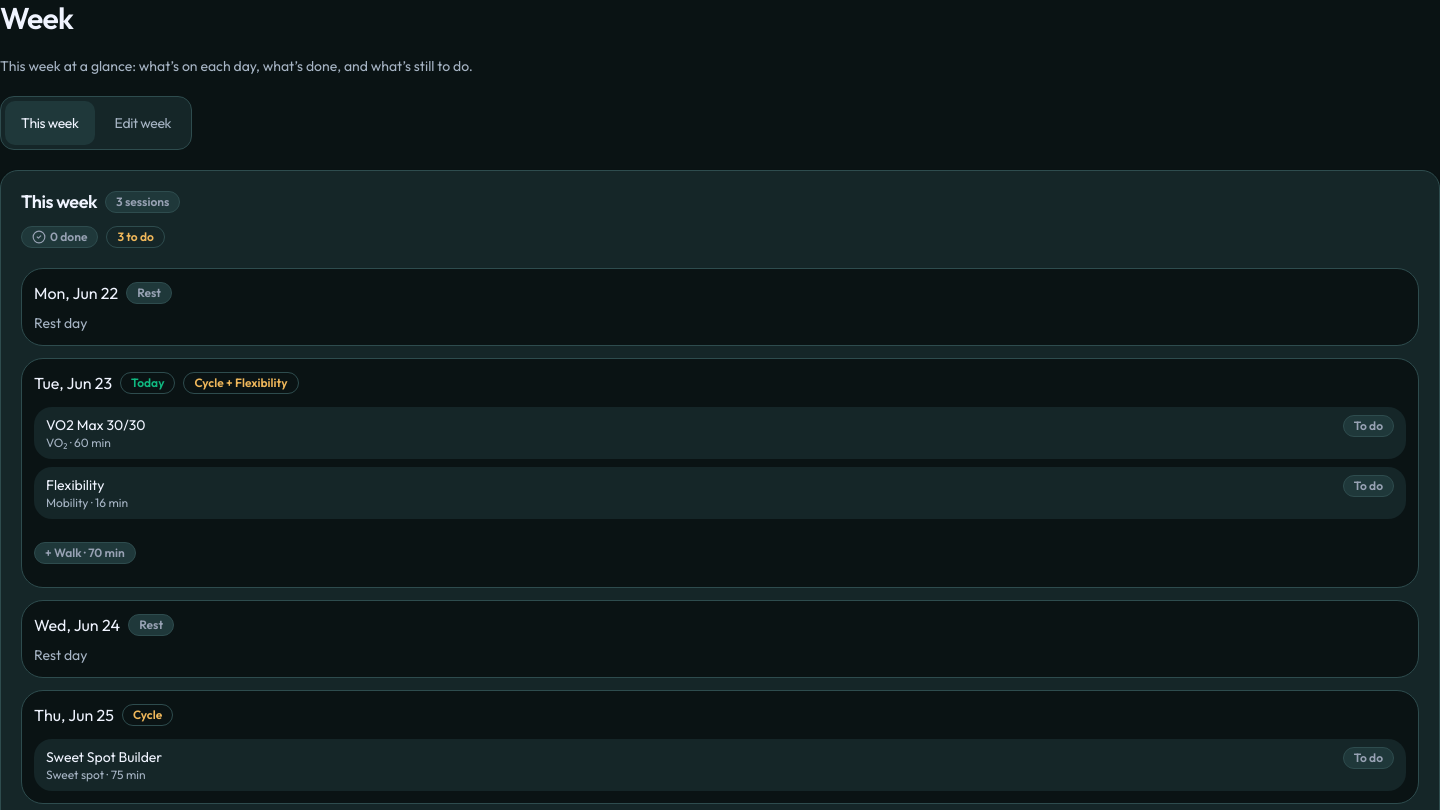
WeekAheadPage › opens an activity detail sheet from a logged-walk chip on the glance (Batch 136)
Check: the text "VO2 Max 30/30" is shown, box [46,414,146,434]
Check: the text "You did this" is not shown
Click the button with aria-label "View Walk · 70 min details" at (85, 552), box [34,530,136,574]
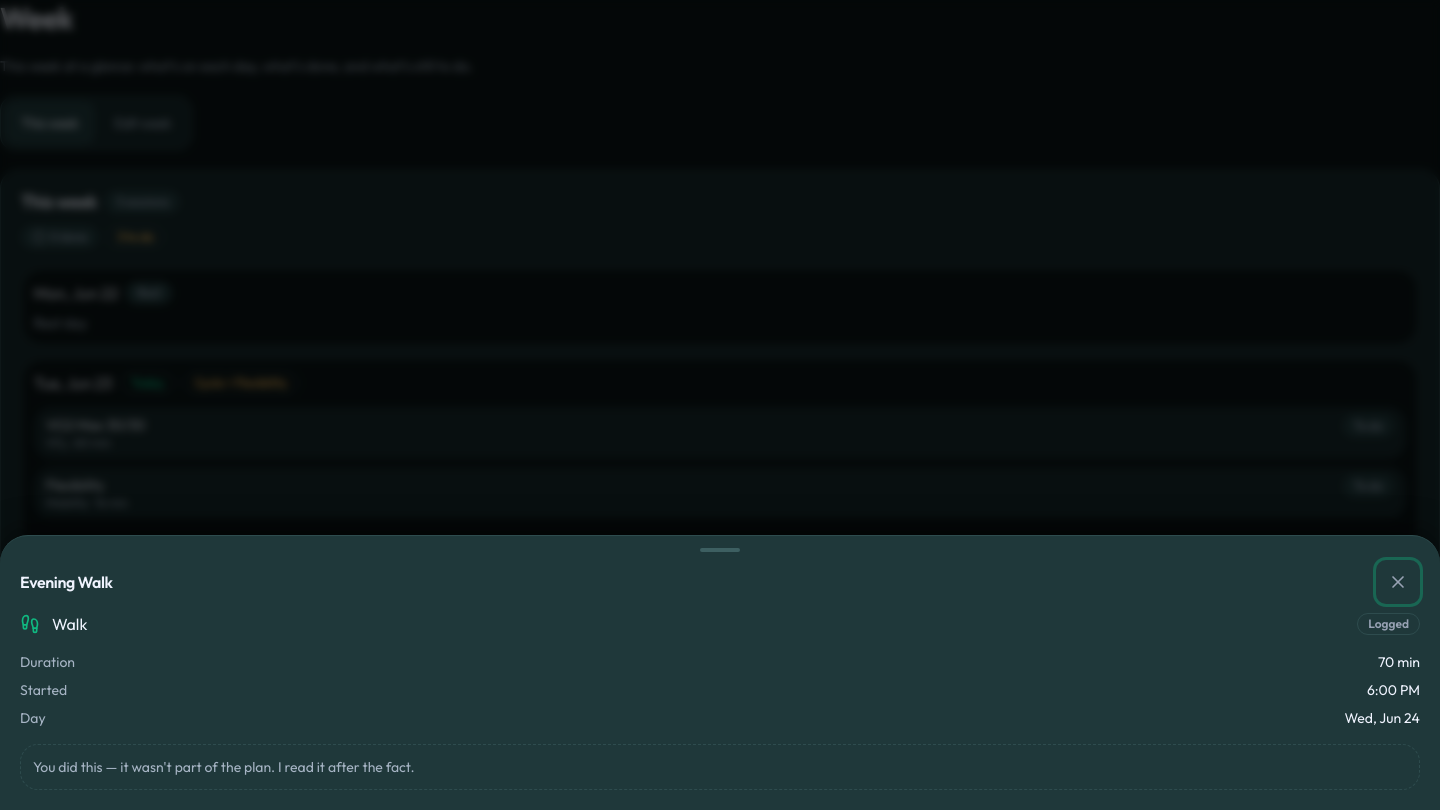
Check: the text "Logged" is shown, box [1357,613,1420,635]
Check: the text "You did this" is shown, box [33,758,415,776]
Check: the text "70 min" is shown, box [1378,652,1420,672]
